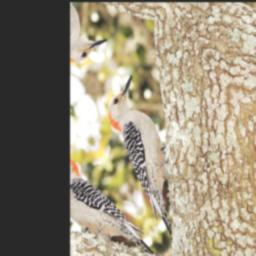Woodpecker: (80, 67, 219, 250)
